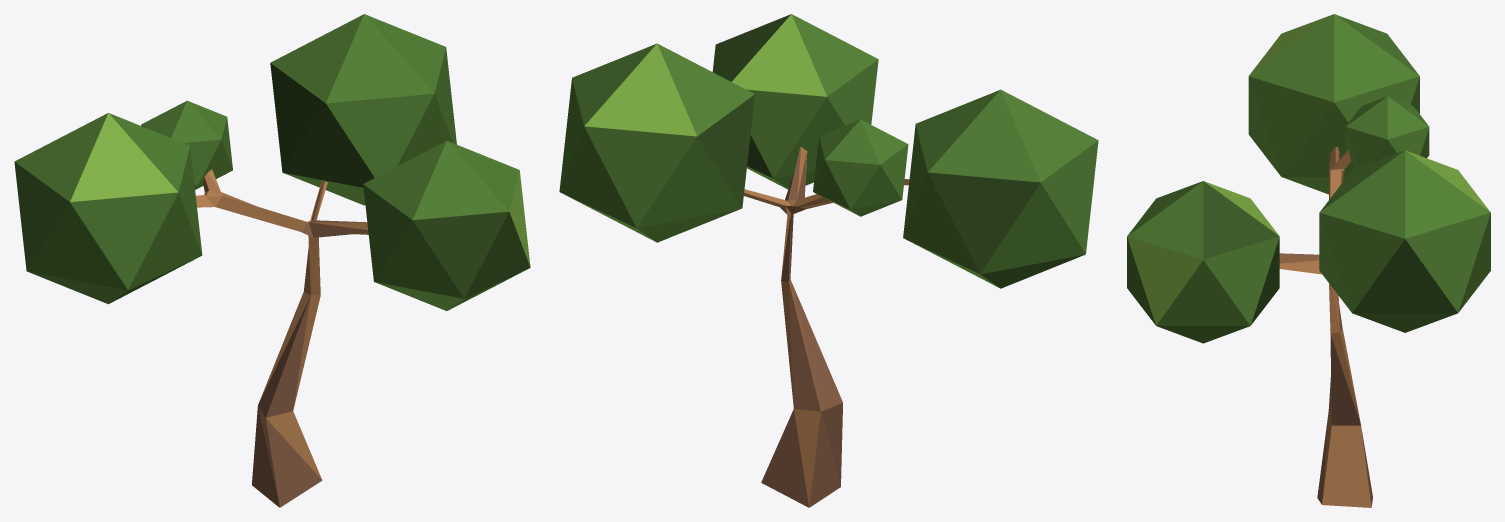
Rendered from firsttree.fbx.
3 views of the same model, side by side, from view 1: azimuth 30°, elevation 25°; view 2: azimuth 150°, elevation 25°; view 3: azimuth 270°, elevation 25° (orthographic). The views are drawn at different scales.
Parts seen in each view (by area): view 1: Icosphere, Icosphere.001, Icosphere.002, Cube, Icosphere.003; view 2: Icosphere.001, Icosphere, Icosphere.002, Cube, Icosphere.003; view 3: Icosphere.001, Icosphere.002, Icosphere, Cube, Icosphere.003.
Part boxes in pixels (x1,y1,x2,y2): Icosphere: (14,113,202,304); Icosphere.001: (270,14,456,205); Icosphere.002: (363,140,530,310); Cube: (196,169,368,507); Icosphere.003: (141,100,232,189); Icosphere.001: (559,43,754,242); Icosphere: (903,89,1098,288); Icosphere.002: (712,14,878,189); Cube: (744,147,909,507); Icosphere.003: (813,119,908,216); Icosphere.001: (1319,150,1490,332); Icosphere.002: (1127,181,1279,343); Icosphere: (1248,14,1419,194); Cube: (1279,147,1372,507); Icosphere.003: (1345,96,1429,168).
Size of the model in its own units: 1717 by 1539 by 1242.
